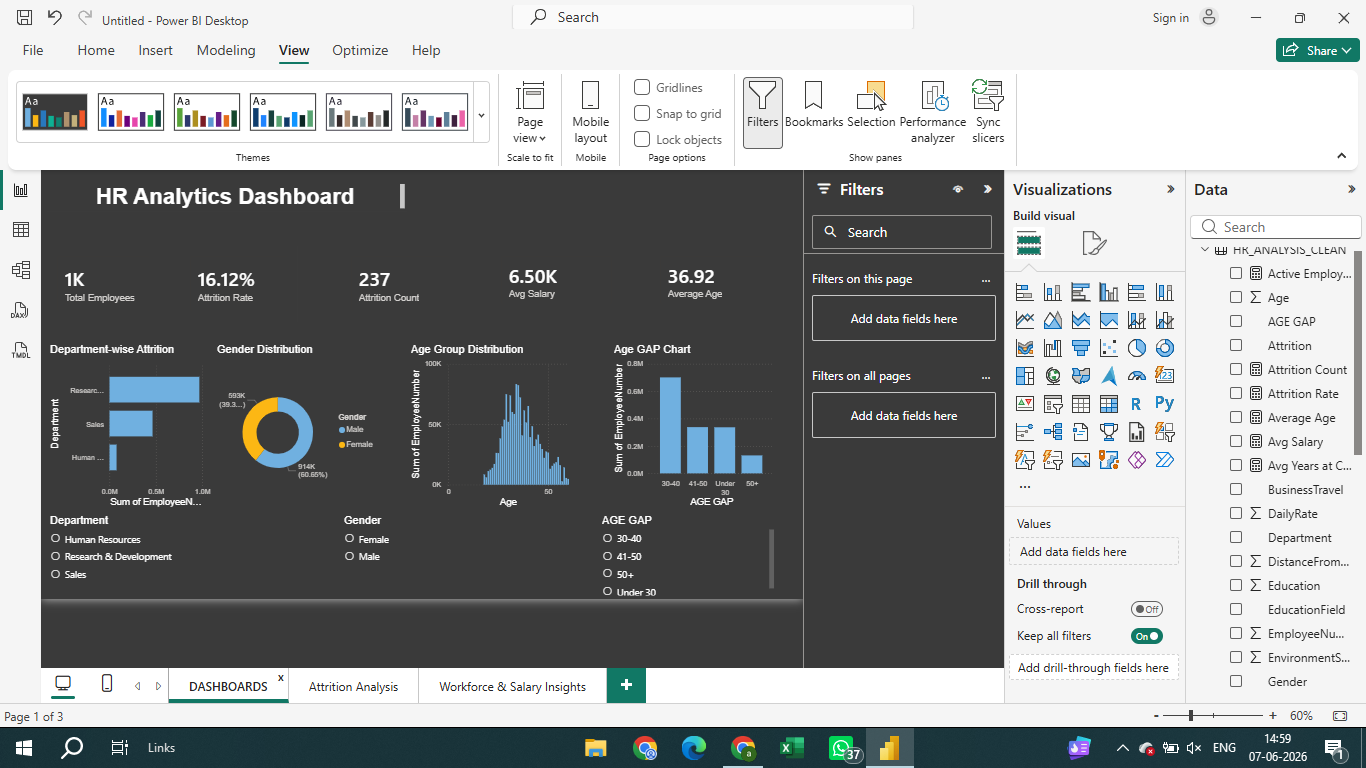

What the dashboard file says about the page in this screenshot:
{"tool":"powerbi","page":{"name":"DASHBOARDS ","canvas":[1280,720],"ordinal":0},"visuals":[{"type":"cardVisual","fields":{"Data":["HR_ANALYSIS_CLEAN.Total Employees"]},"box":[10.1,127.7,189.8,127.7],"z":0},{"type":"cardVisual","fields":{"Data":["HR_ANALYSIS_CLEAN.Attrition Count"]},"box":[503.9,127.7,199.9,127.7],"z":1000},{"type":"cardVisual","fields":{"Data":["HR_ANALYSIS_CLEAN.Attrition Rate"]},"box":[233.5,127.7,198.2,127.7],"z":2000},{"type":"cardVisual","fields":{"Data":["HR_ANALYSIS_CLEAN.Avg Salary"]},"box":[755.9,127.7,220.1,115.9],"z":3000},{"type":"clusteredBarChart","title":"Department-wise Attrition","fields":{"Category":["HR_ANALYSIS_CLEAN.Department"],"Y":["Sum(HR_ANALYSIS_CLEAN.EmployeeNumber)"]},"box":[10,291,280,280],"z":4000},{"type":"donutChart","title":"Gender Distribution","fields":{"Category":["HR_ANALYSIS_CLEAN.Gender"],"Y":["Sum(HR_ANALYSIS_CLEAN.EmployeeNumber)"]},"box":[291,291,281,280],"z":5000},{"type":"clusteredColumnChart","title":"Age Group Distribution","fields":{"Category":["HR_ANALYSIS_CLEAN.Age"],"Y":["Sum(HR_ANALYSIS_CLEAN.EmployeeNumber)"]},"box":[616,291,281,280],"z":6000},{"type":"clusteredColumnChart","title":"Age GAP Chart","fields":{"Category":["HR_ANALYSIS_CLEAN.AGE GAP"],"Y":["Sum(HR_ANALYSIS_CLEAN.EmployeeNumber)"]},"box":[957,291,279,280],"z":7000},{"type":"cardVisual","fields":{"Data":["HR_ANALYSIS_CLEAN.Average Age"]},"box":[1023,127.7,213.3,115.9],"z":8000},{"type":"textbox","box":[10.1,18.5,606.4,52.1],"z":9000},{"type":"listSlicer","fields":{"Values":["HR_ANALYSIS_CLEAN.Department"]},"box":[10.1,577.8,299,142.8],"z":9001},{"type":"listSlicer","fields":{"Values":["HR_ANALYSIS_CLEAN.Gender"]},"box":[503.9,577.8,299,142.8],"z":9002},{"type":"listSlicer","fields":{"Values":["HR_ANALYSIS_CLEAN.AGE GAP"]},"box":[937.3,577.8,299,142.8],"z":9003}]}

Visuals, with their boxes on the page's 1280x720 design canvas (x1, y1, x2, y2). These are canvas units, not pixel positions in the 1366x768 screenshot, which may show the page scaled, cropped or inside an application window:
cardVisual - HR_ANALYSIS_CLEAN.Total Employees: left=10, top=128, right=200, bottom=255
cardVisual - HR_ANALYSIS_CLEAN.Attrition Count: left=504, top=128, right=704, bottom=255
cardVisual - HR_ANALYSIS_CLEAN.Attrition Rate: left=234, top=128, right=432, bottom=255
cardVisual - HR_ANALYSIS_CLEAN.Avg Salary: left=756, top=128, right=976, bottom=244
"Department-wise Attrition" clusteredBarChart: left=10, top=291, right=290, bottom=571
"Gender Distribution" donutChart: left=291, top=291, right=572, bottom=571
"Age Group Distribution" clusteredColumnChart: left=616, top=291, right=897, bottom=571
"Age GAP Chart" clusteredColumnChart: left=957, top=291, right=1236, bottom=571
cardVisual - HR_ANALYSIS_CLEAN.Average Age: left=1023, top=128, right=1236, bottom=244
textbox: left=10, top=18, right=616, bottom=71
listSlicer - HR_ANALYSIS_CLEAN.Department: left=10, top=578, right=309, bottom=721
listSlicer - HR_ANALYSIS_CLEAN.Gender: left=504, top=578, right=803, bottom=721
listSlicer - HR_ANALYSIS_CLEAN.AGE GAP: left=937, top=578, right=1236, bottom=721
